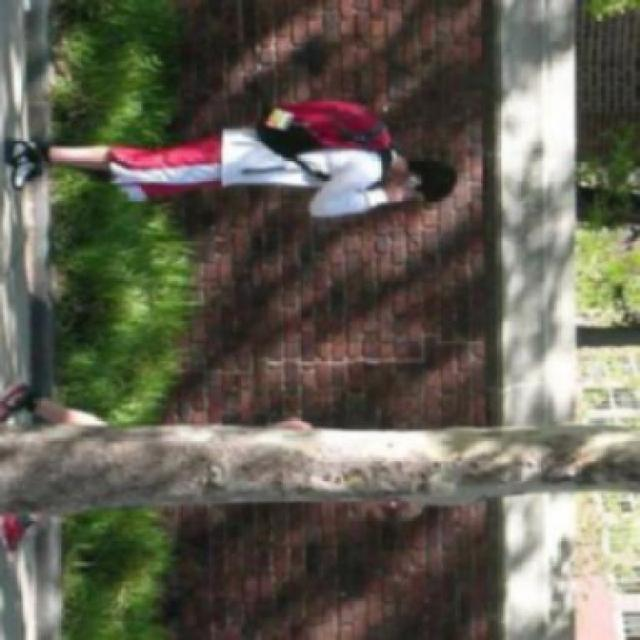obstacle: (0, 99, 466, 228)
